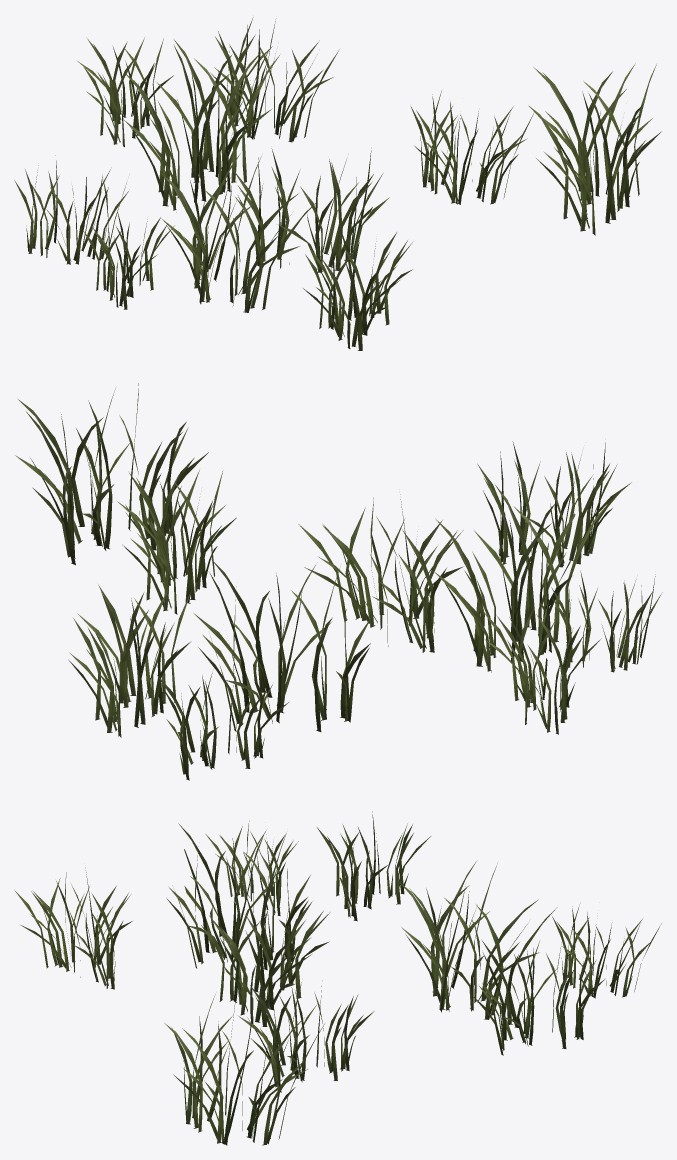
File: Grass13.fbx
3 views of the same model, one above another, from view 1: azimuth 30°, elevation 25°; view 2: azimuth 150°, elevation 25°; view 3: azimuth 270°, elevation 25° (orthographic). The views are drawn at different scales.
Visible parts, largest first — view 1: LV_Veolan_Foliage_FieldGrass02_PM_YCY; view 2: LV_Veolan_Foliage_FieldGrass02_PM_YCY; view 3: LV_Veolan_Foliage_FieldGrass02_PM_YCY.
Part boxes in pixels (<box>): LV_Veolan_Foliage_FieldGrass02_PM_YCY: <box>14,17,661,350</box>; LV_Veolan_Foliage_FieldGrass02_PM_YCY: <box>15,383,662,780</box>; LV_Veolan_Foliage_FieldGrass02_PM_YCY: <box>14,811,661,1145</box>.
Size of the model in its own units: 0.8705 by 0.185 by 0.8883.
Materials: 1 (1 with a texture image).
